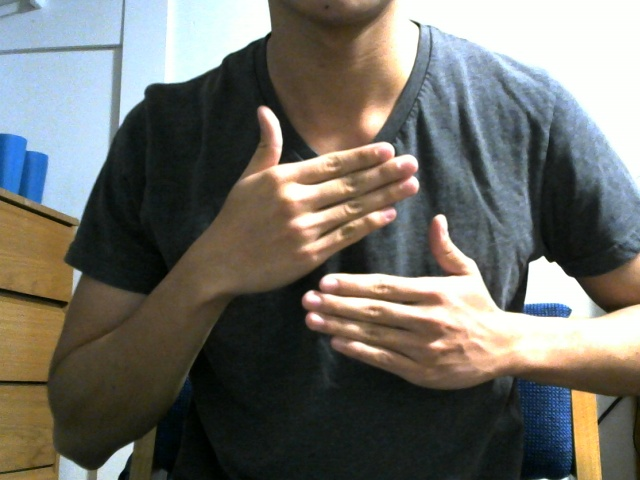Enjoy: (175, 93, 525, 418)
